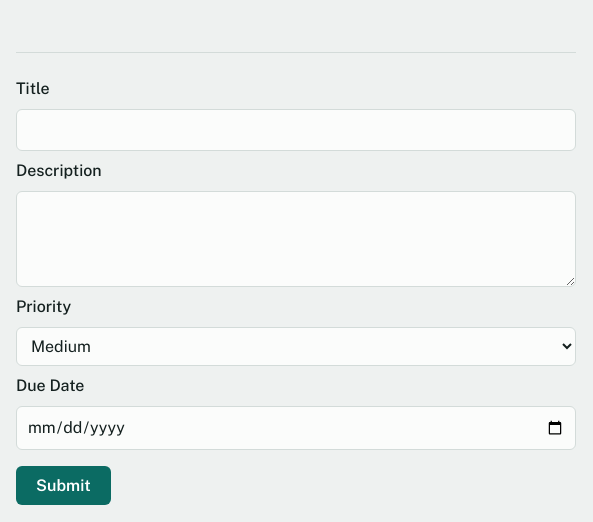
creates a work item and navigates to the list only after POST succeeds
Later steps or results of the test are not shown.
In the field labelled "Title": (296, 130) [16,109,576,151], type "New support case"
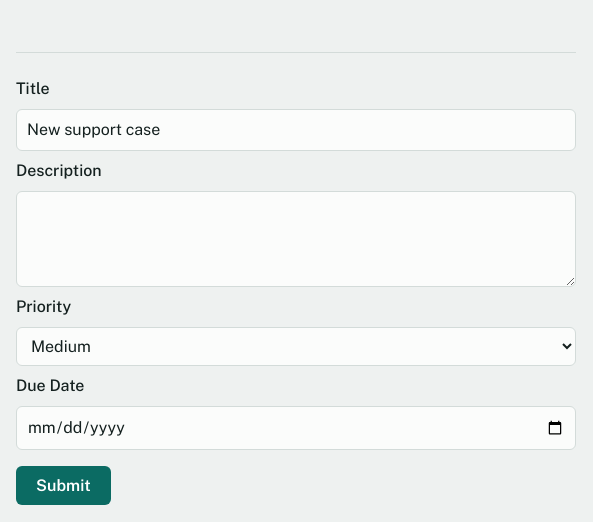
In the text box labelled "Description": (296, 239) [16,191,576,287], type "Investigate the issue"
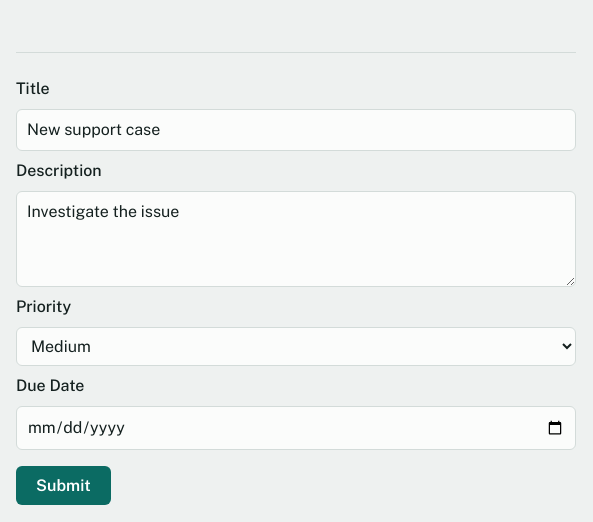
Select "High" in the dropdown labelled "Priority": (296, 346) [16,327,576,366]
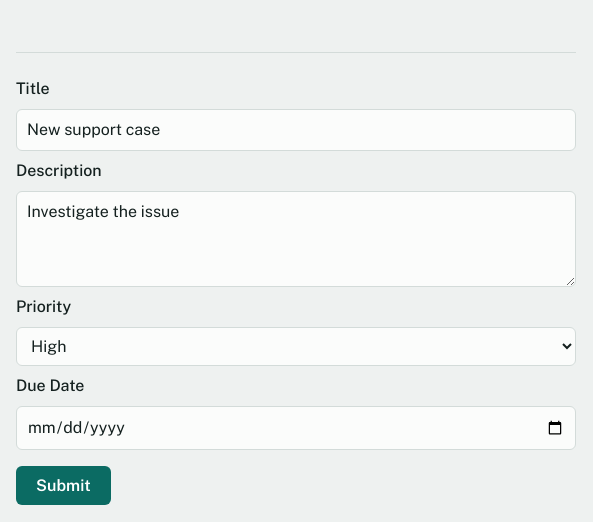
In the date field labelled "Due Date": (296, 428) [16,406,576,450], type "2026-12-01"
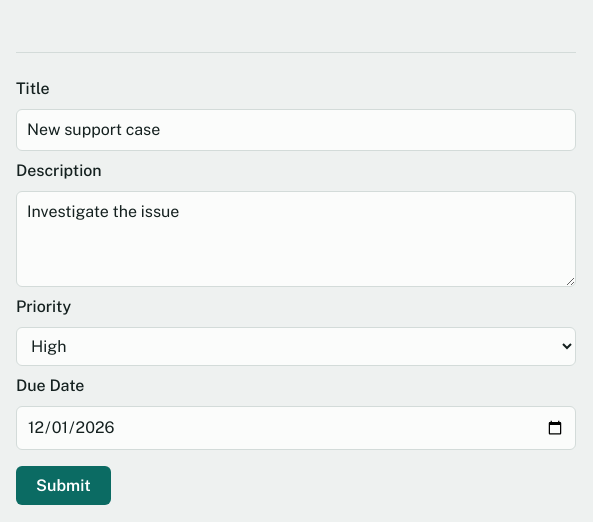
Click the button "Submit": (63, 486) [16,466,111,505]
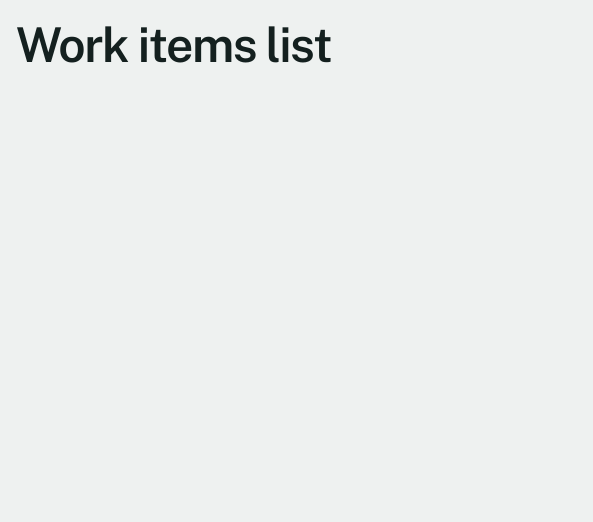
Now the heading "Work items list" is shown, box [16,16,331,73]
Now the button "Submit" is gone
